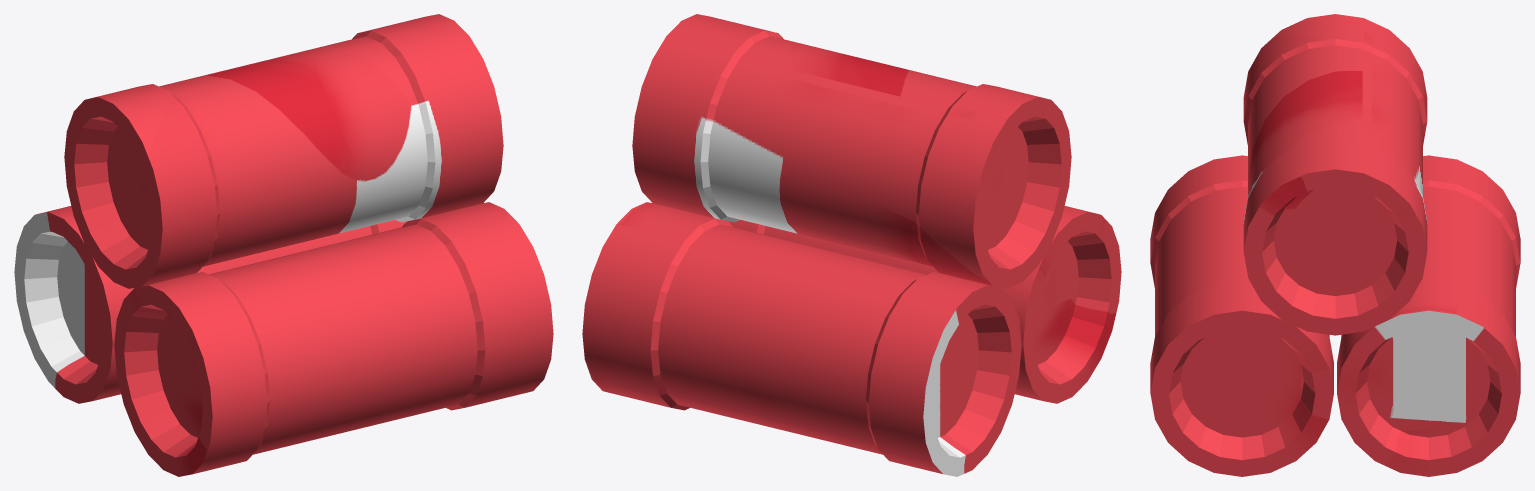
Rendered from Pipe.fbx.
The picture shows the model from 3 angles, left to right: view 1: azimuth 30°, elevation 25°; view 2: azimuth 150°, elevation 25°; view 3: azimuth 270°, elevation 25°; orthographic projection. The views are drawn at different scales.
Visible parts, largest first — view 1: Pipe; view 2: Pipe; view 3: Pipe.
Part boxes in pixels (x1=…): Pipe: x1=14, y1=14, x2=553, y2=476; Pipe: x1=582, y1=14, x2=1121, y2=476; Pipe: x1=1150, y1=14, x2=1520, y2=476.
Size of the model in its own units: 0.9928 by 0.9176 by 1.
